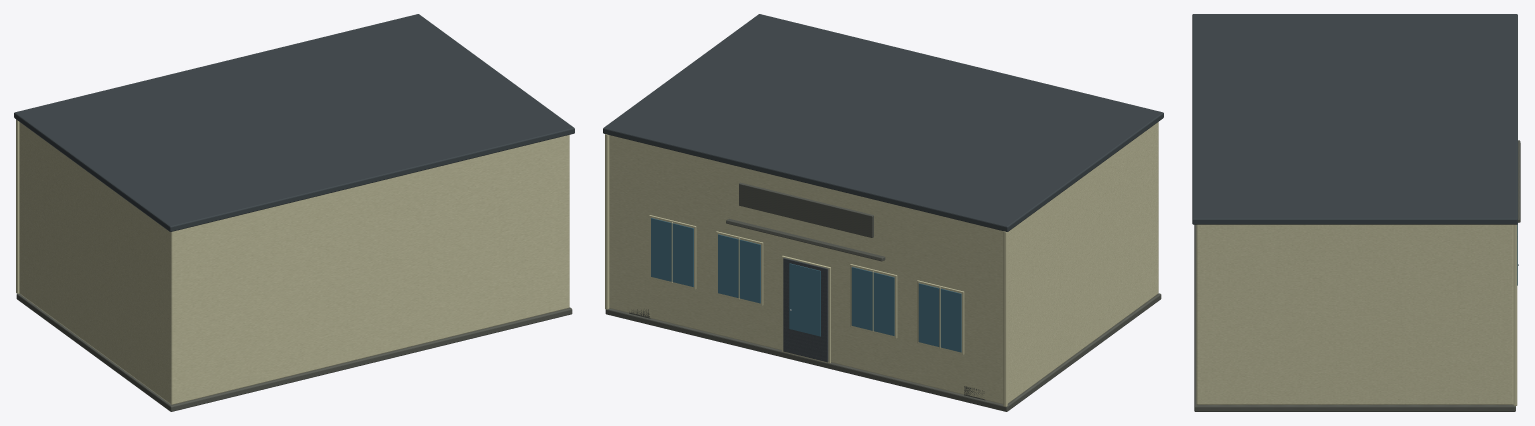
Rendered from SmallOffice.gltf.
The picture shows the model from 3 angles, left to right: view 1: azimuth 30°, elevation 25°; view 2: azimuth 150°, elevation 25°; view 3: azimuth 270°, elevation 25°; orthographic projection. The views are drawn at different scales.
Visible parts, largest first — view 1: SmallOffice__Body; view 2: SmallOffice__Body; view 3: SmallOffice__Body.
Part boxes in pixels (x1,y1,x2,y2): SmallOffice__Body: (14, 14, 574, 411); SmallOffice__Body: (603, 14, 1163, 411); SmallOffice__Body: (1192, 14, 1520, 411).
Size of the model in its own units: 10.16 by 4.48 by 6.86.
3 materials, 1 textured.
